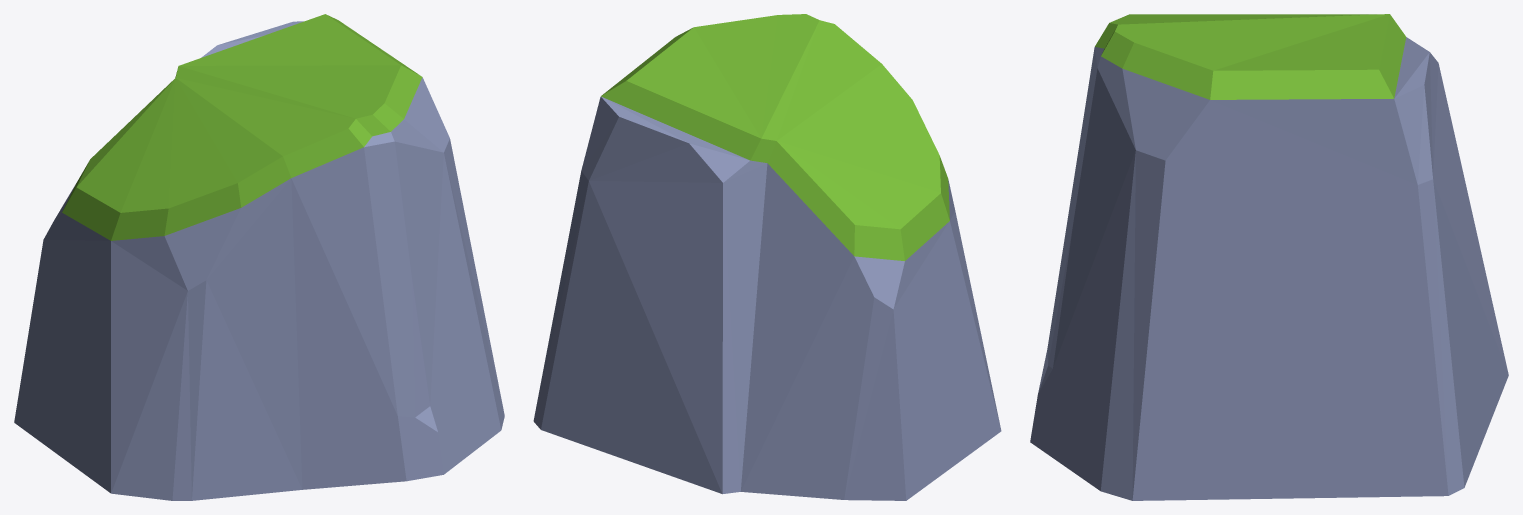
Rendered from Rock_23_1.fbx.
The picture shows the model from 3 angles, left to right: view 1: azimuth 30°, elevation 25°; view 2: azimuth 150°, elevation 25°; view 3: azimuth 270°, elevation 25°; orthographic projection. The views are drawn at different scales.
Visible parts, largest first — view 1: Rock_23_1; view 2: Rock_23_1; view 3: Rock_23_1.
Part boxes in pixels (bbox=[...]): Rock_23_1: bbox=[14, 14, 504, 500]; Rock_23_1: bbox=[533, 14, 1001, 500]; Rock_23_1: bbox=[1030, 14, 1508, 500].
Bounding box in the file's own units: 4.56 × 4.08 × 4.46.
